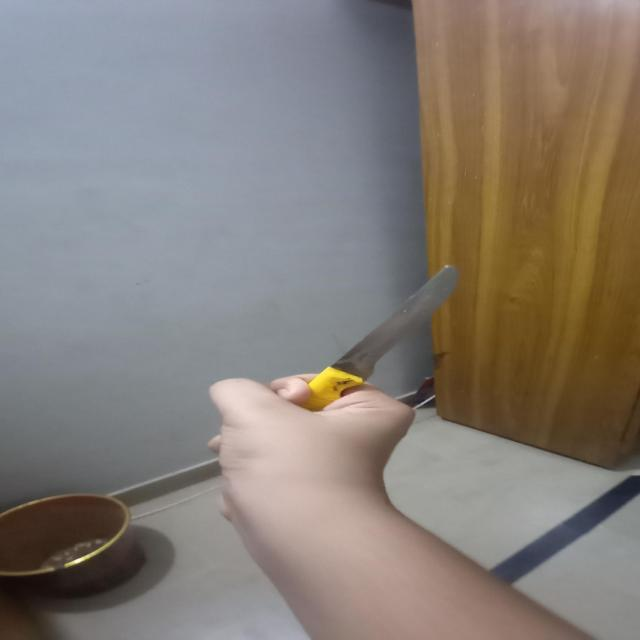faca: (295, 266, 460, 416)
